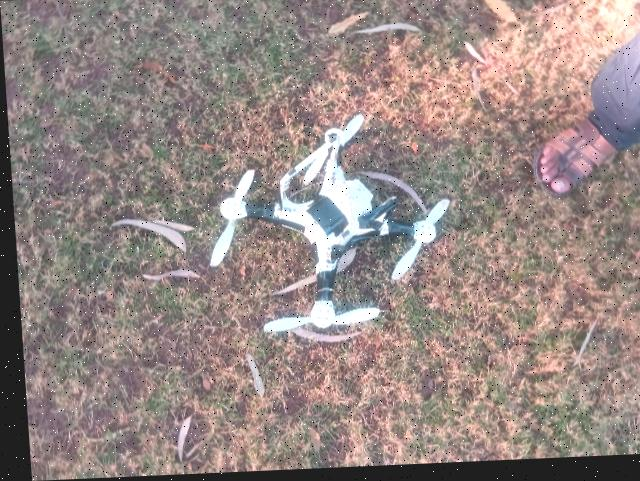drone: (133, 103, 462, 357)
